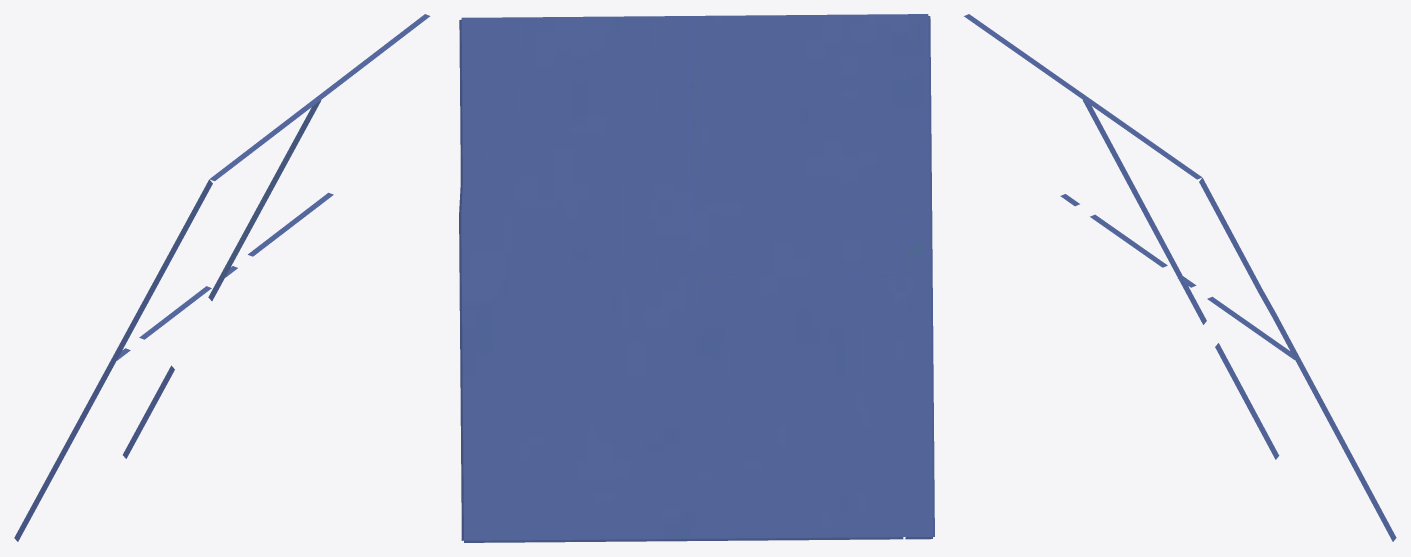
The picture shows the model from 3 angles, left to right: view 1: azimuth 30°, elevation 25°; view 2: azimuth 150°, elevation 25°; view 3: azimuth 270°, elevation 25°; orthographic projection. The views are drawn at different scales.
Bounding box in the file's own units: 39474 × 35420 × 33671.
Materials: 1 (1 with a texture image).
